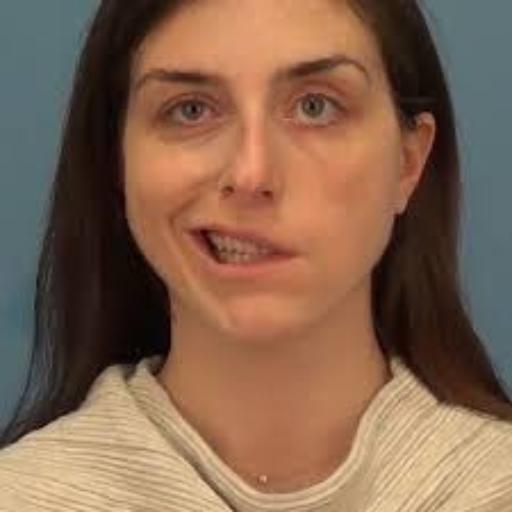left_eye: (287, 94, 349, 127)
left_lip_corner: (284, 245, 311, 265)
right_eye: (160, 100, 224, 128)
right_lip_corner: (180, 221, 206, 242)
